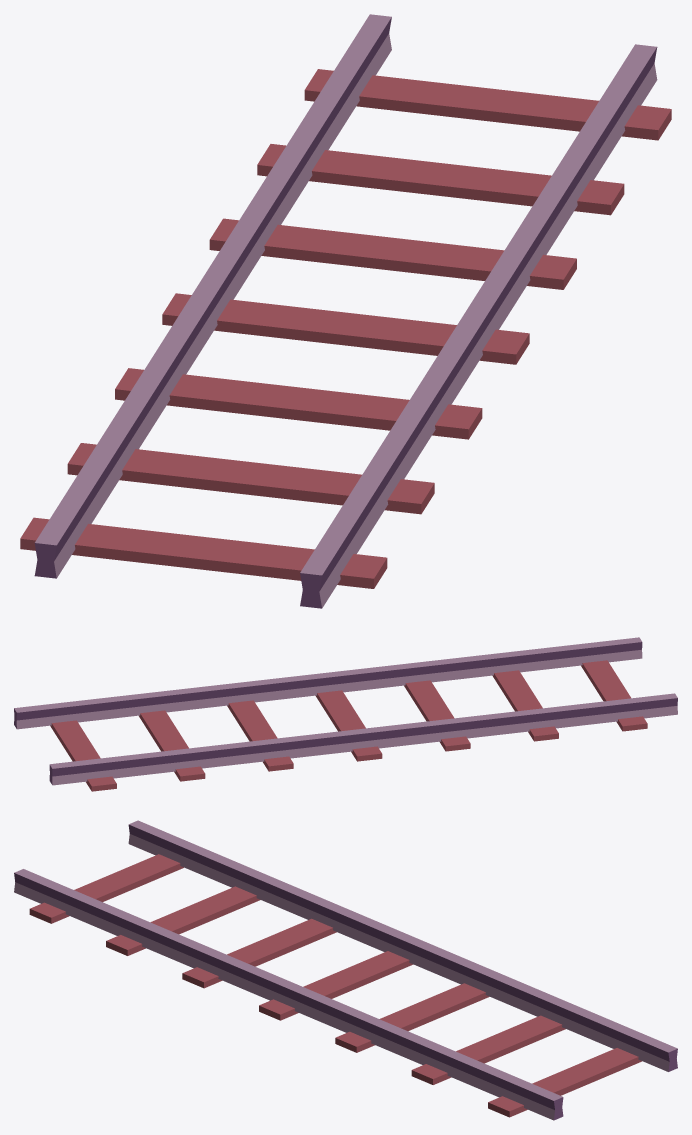
The model's file is rail_diagonal.obj.
3 views of the same model, one above another, from view 1: azimuth 30°, elevation 25°; view 2: azimuth 150°, elevation 25°; view 3: azimuth 270°, elevation 25° (orthographic). The views are drawn at different scales.
Parts seen in each view (by area): view 1: rail_diagonal; view 2: rail_diagonal; view 3: rail_diagonal.
Part boxes in pixels (bbox=[...]): rail_diagonal: bbox=[20, 14, 671, 608]; rail_diagonal: bbox=[14, 637, 677, 791]; rail_diagonal: bbox=[14, 820, 677, 1120].
Bounding box in the file's own units: 6.15 × 0.2372 × 6.15.
Materials: 1 (1 with a texture image).
